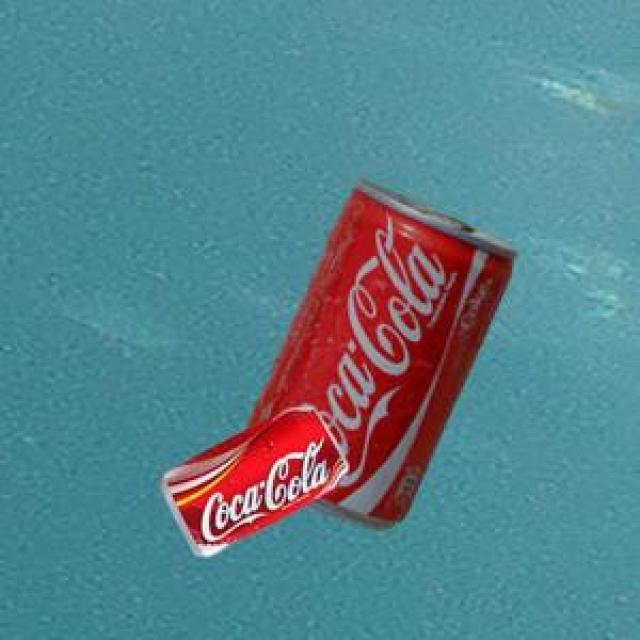logam: (244, 178, 513, 526), (157, 402, 345, 554)
